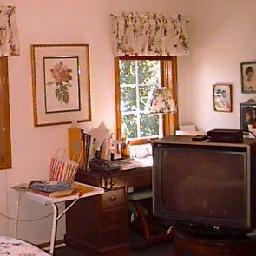Electrodomestico: (152, 137, 252, 234)
Ventana: (117, 49, 173, 138)
